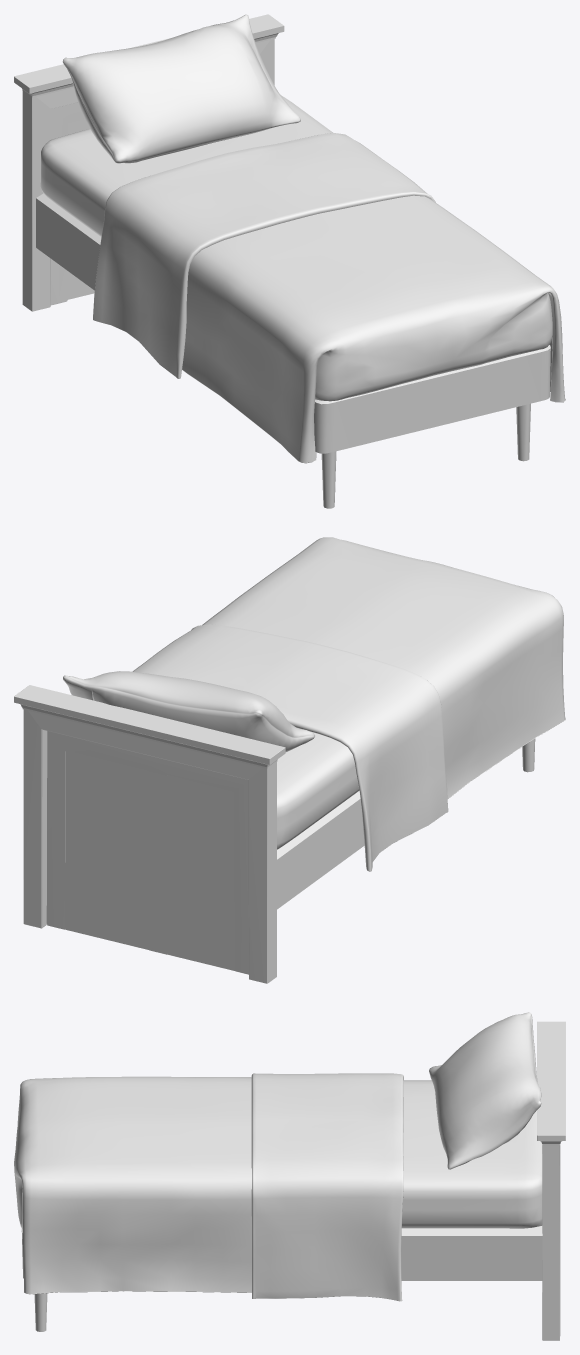
The model's file is bed.glb.
The picture shows the model from 3 angles, top to bottom: view 1: azimuth 30°, elevation 25°; view 2: azimuth 150°, elevation 25°; view 3: azimuth 270°, elevation 25°; orthographic projection. The views are drawn at different scales.
Visible parts, largest first — view 1: geo_opq_sheet, geo_opq_bed, geo_opq_pillow, geo_opq_mattress; view 2: geo_opq_sheet, geo_opq_bed, geo_opq_pillow, geo_opq_mattress; view 3: geo_opq_sheet, geo_opq_bed, geo_opq_mattress, geo_opq_pillow.
Boxes of the visible parts, left/top/right/bottom form: geo_opq_sheet: left=93, top=132, right=565, bottom=463; geo_opq_bed: left=14, top=14, right=550, bottom=508; geo_opq_pillow: left=62, top=14, right=300, bottom=163; geo_opq_mattress: left=40, top=95, right=332, bottom=236; geo_opq_sheet: left=132, top=537, right=565, bottom=871; geo_opq_bed: left=14, top=685, right=535, bottom=983; geo_opq_pillow: left=63, top=671, right=314, bottom=751; geo_opq_mattress: left=277, top=732, right=359, bottom=849; geo_opq_sheet: left=14, top=1073, right=403, bottom=1301; geo_opq_bed: left=21, top=1021, right=565, bottom=1340; geo_opq_mattress: left=402, top=1080, right=542, bottom=1228; geo_opq_pillow: left=429, top=1012, right=541, bottom=1169.
Bounding box in the file's own units: 1.11 × 0.9976 × 2.13.
1 material, 1 textured.
